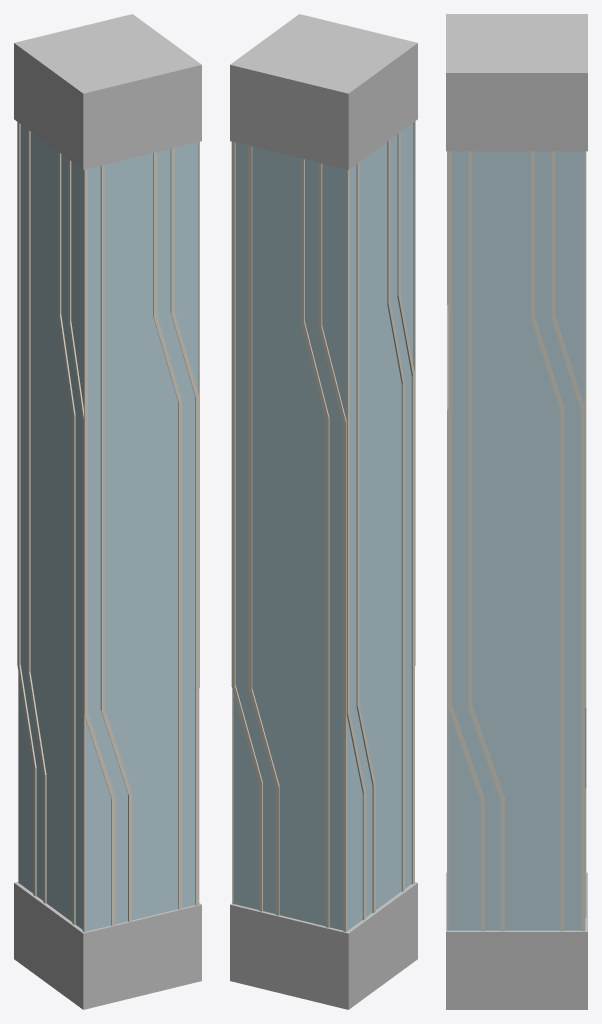
3 views of the same model, side by side, from view 1: azimuth 30°, elevation 25°; view 2: azimuth 150°, elevation 25°; view 3: azimuth 270°, elevation 25° (orthographic). The views are drawn at different scales.
Visible parts, largest first — view 1: 组#122_006; view 2: 组#122_006; view 3: 组#122_006.
Boxes of the visible parts, x1=… form: 组#122_006: x1=14, y1=14, x2=201, y2=1009; 组#122_006: x1=230, y1=14, x2=417, y2=1009; 组#122_006: x1=446, y1=14, x2=587, y2=1009.
Bounding box in the file's own units: 13 × 96 × 13.18.
